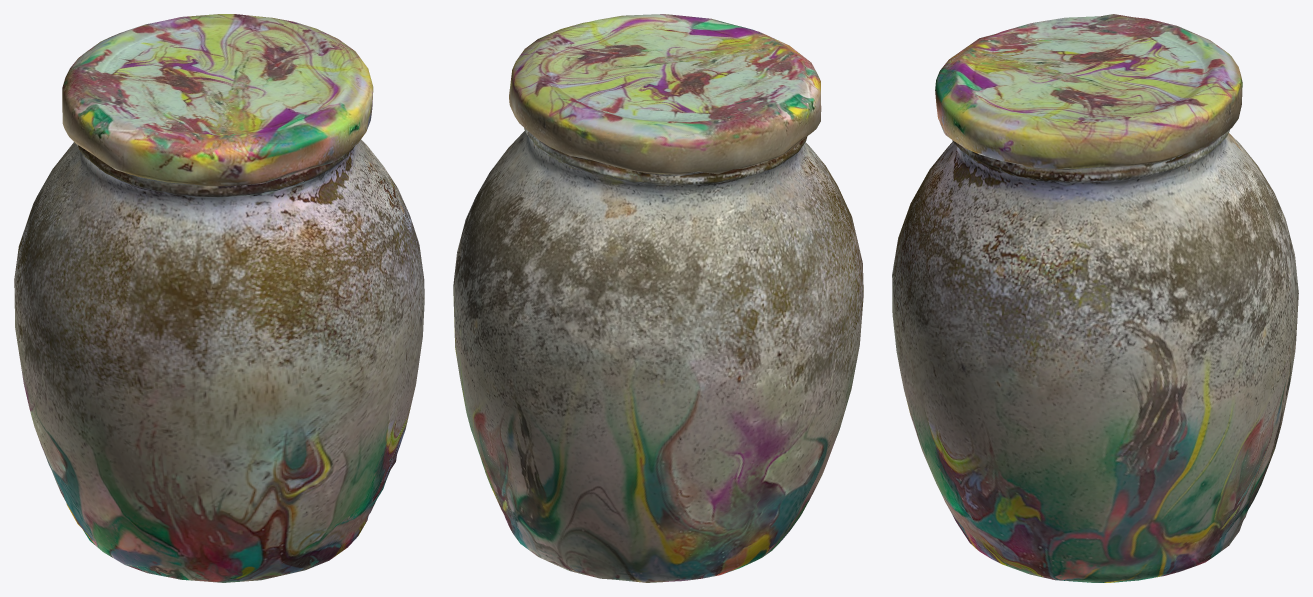
The model's file is jar.glb.
3 renders of one model, left to right at view 1: azimuth 30°, elevation 25°; view 2: azimuth 150°, elevation 25°; view 3: azimuth 270°, elevation 25°, orthographic.
Parts seen in each view (by area): view 1: delight.002; view 2: delight.002; view 3: delight.002.
Boxes of the visible parts, x1,y1,x2,y2 form: delight.002: (14,14,424,582); delight.002: (453,14,863,582); delight.002: (892,14,1298,582).
Bounding box in the file's own units: 0.1255 × 0.1576 × 0.1254.
1 material, 1 textured.
